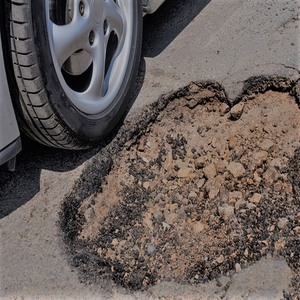pothole: (54, 65, 300, 293)
